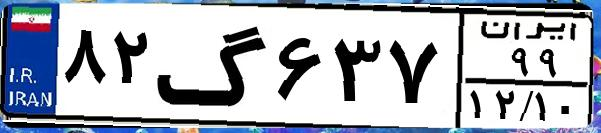0: (560, 70, 590, 125)
1: (470, 70, 495, 125), (535, 70, 560, 125)
2: (110, 28, 156, 98), (495, 70, 520, 125)
3: (330, 28, 385, 110)
6: (270, 28, 330, 110)
7: (385, 28, 445, 110)
8: (57, 26, 110, 100)
9: (537, 27, 568, 80), (508, 27, 537, 80)
گ: (156, 12, 270, 120)
